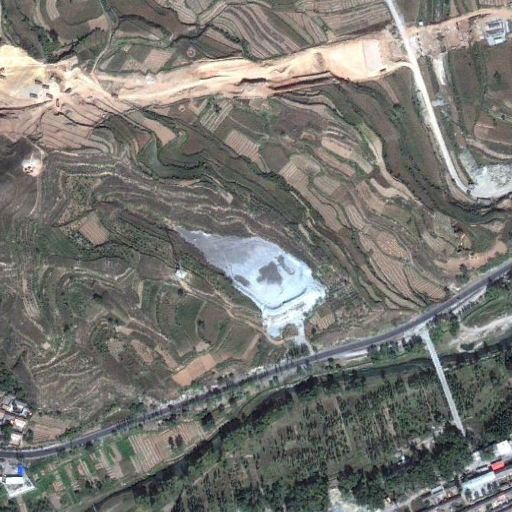tp: (173, 221, 324, 329)
